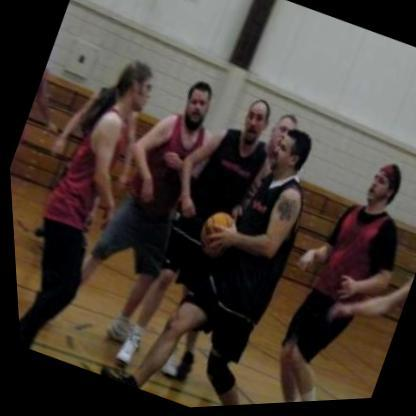basketball: (190, 204, 242, 261)
